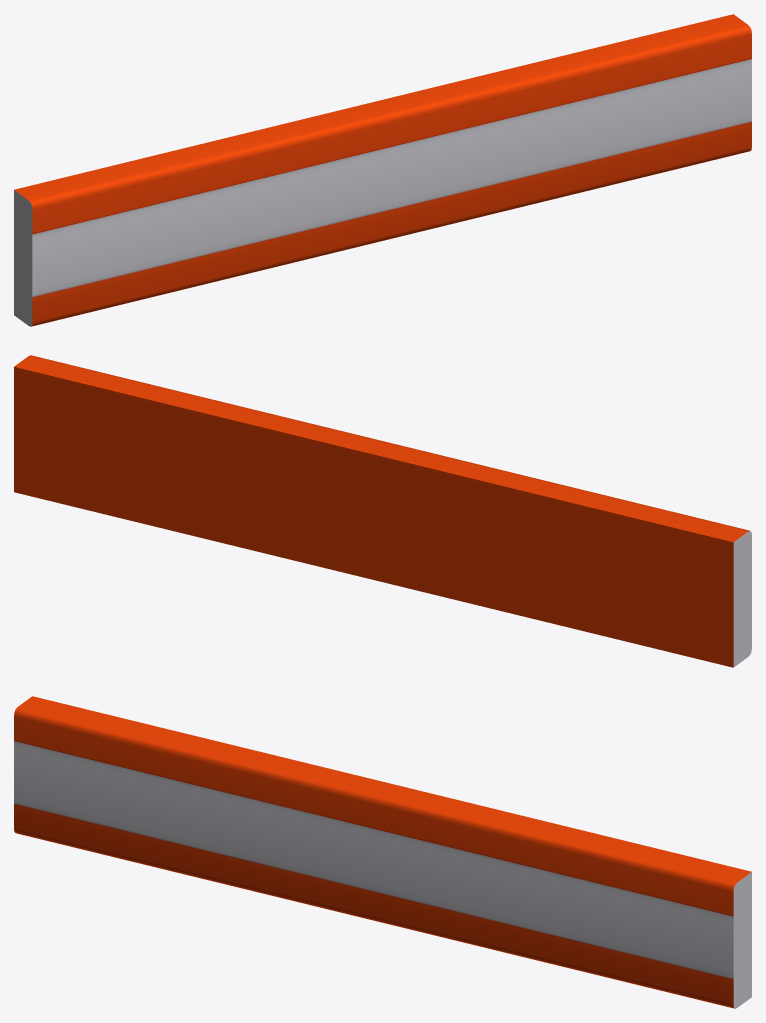
Rendered from PropTrimFacade03_1.FBX.
3 renders of one model, top to bottom at view 1: azimuth 30°, elevation 25°; view 2: azimuth 150°, elevation 25°; view 3: azimuth 330°, elevation 25°, orthographic.
Visible parts, largest first — view 1: PropTrimFacade03_1; view 2: PropTrimFacade03_1; view 3: PropTrimFacade03_1.
Part boxes in pixels (bbox=[...]): PropTrimFacade03_1: bbox=[14, 14, 751, 326]; PropTrimFacade03_1: bbox=[14, 355, 751, 667]; PropTrimFacade03_1: bbox=[14, 696, 751, 1008].
Size of what is drawn, in the model's own units: 4.5 by 0.75 by 0.2.
